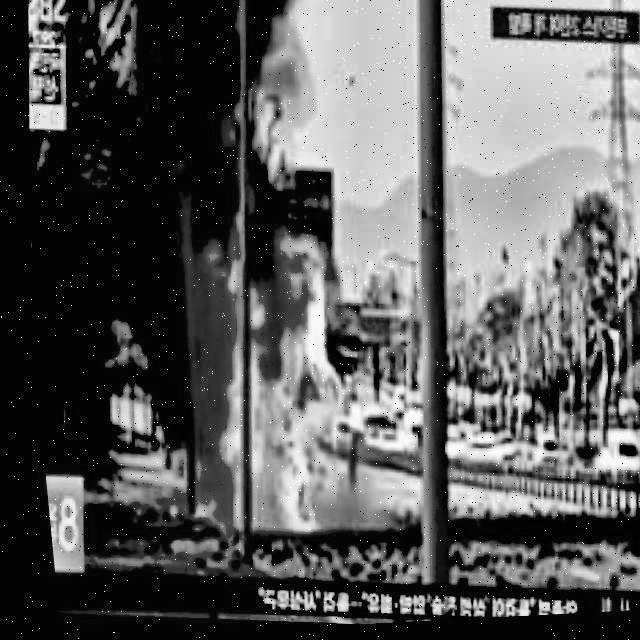Fire: (187, 227, 361, 549)
Smoke: (89, 0, 272, 422), (238, 0, 330, 83)
